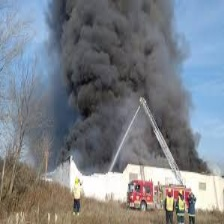smoke: (56, 1, 184, 164)
